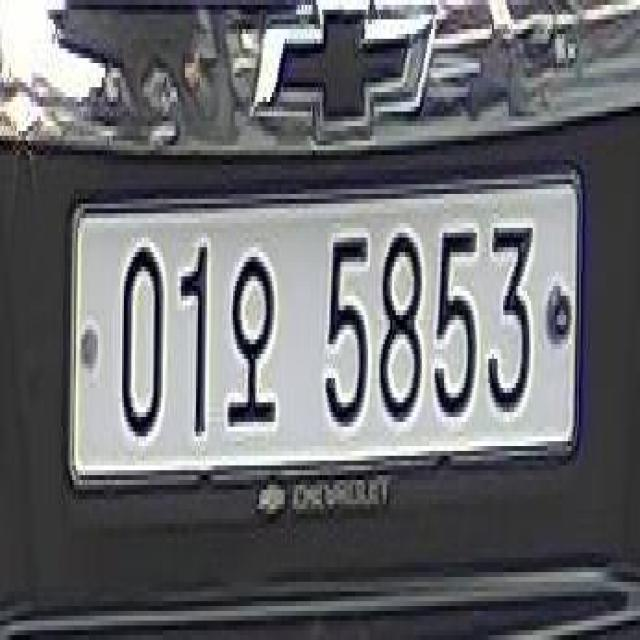illegal_plate: (68, 164, 589, 526)
